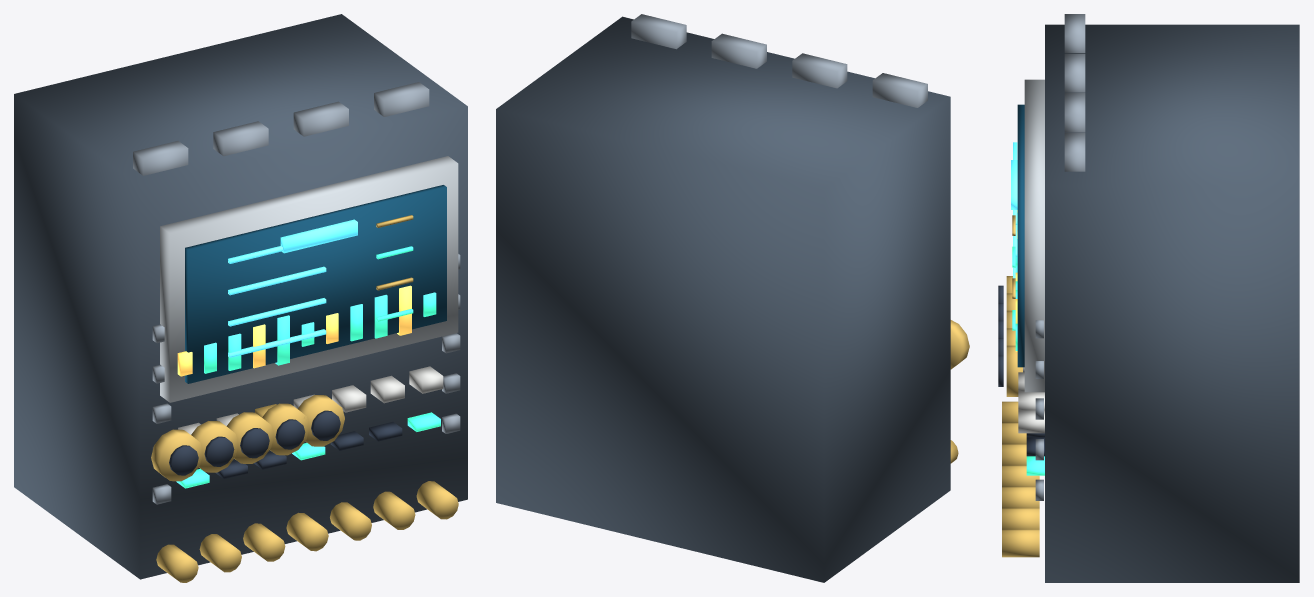
File: 65_L87_RotaryPowerTransferMonitor.glb
3 renders of one model, left to right at view 1: azimuth 30°, elevation 25°; view 2: azimuth 150°, elevation 25°; view 3: azimuth 270°, elevation 25°, orthographic.
Visible parts, largest first — view 1: L87_RotaryPowerTransferMonito_Part_0000, L87_RotaryPowerTransferMonito_Part_0002, L87_RotaryPowerTransferMonito_Part_0001, L87_RotaryPowerTransferMonito_Part_0004, L87_RotaryPowerTransferMonito_Part_0009, L87_RotaryPowerTransferMonito_Part_0012, L87_RotaryPowerTransferMonito_Part_0006, L87_RotaryPowerTransferMonito_Part_0008, L87_RotaryPowerTransferMonito_Part_0003, L87_RotaryPowerTransferMonito_Part_0011, L87_RotaryPowerTransferMonito_Part_0007, L87_RotaryPowerTransferMonito_Part_0005 (+11 smaller); view 2: L87_RotaryPowerTransferMonito_Part_0000, L87_RotaryPowerTransferMonito_Part_0009, L87_RotaryPowerTransferMonito_Part_0013; view 3: L87_RotaryPowerTransferMonito_Part_0000, L87_RotaryPowerTransferMonito_Part_0001, L87_RotaryPowerTransferMonito_Part_0004, L87_RotaryPowerTransferMonito_Part_0009, L87_RotaryPowerTransferMonito_Part_0002, L87_RotaryPowerTransferMonito_Part_0006, L87_RotaryPowerTransferMonito_Part_0008, L87_RotaryPowerTransferMonito_Part_0021, L87_RotaryPowerTransferMonito_Part_0005.
Boxes of the visible parts, left/top/right/bottom form: L87_RotaryPowerTransferMonito_Part_0000: left=14, top=14, right=467, bottom=579; L87_RotaryPowerTransferMonito_Part_0002: left=185, top=185, right=446, bottom=383; L87_RotaryPowerTransferMonito_Part_0001: left=160, top=156, right=458, bottom=402; L87_RotaryPowerTransferMonito_Part_0004: left=156, top=215, right=458, bottom=582; L87_RotaryPowerTransferMonito_Part_0009: left=133, top=82, right=429, bottom=175; L87_RotaryPowerTransferMonito_Part_0012: left=204, top=292, right=436, bottom=373; L87_RotaryPowerTransferMonito_Part_0006: left=178, top=366, right=443, bottom=434; L87_RotaryPowerTransferMonito_Part_0008: left=152, top=254, right=460, bottom=504; L87_RotaryPowerTransferMonito_Part_0003: left=228, top=246, right=326, bottom=357; L87_RotaryPowerTransferMonito_Part_0011: left=177, top=285, right=411, bottom=376; L87_RotaryPowerTransferMonito_Part_0007: left=215, top=422, right=402, bottom=478; L87_RotaryPowerTransferMonito_Part_0005: left=176, top=246, right=440, bottom=488; L87_RotaryPowerTransferMonito_Part_0000: left=496, top=16, right=950, bottom=582; L87_RotaryPowerTransferMonito_Part_0009: left=631, top=14, right=927, bottom=107; L87_RotaryPowerTransferMonito_Part_0013: left=950, top=320, right=969, bottom=369; L87_RotaryPowerTransferMonito_Part_0000: left=1045, top=24, right=1299, bottom=582; L87_RotaryPowerTransferMonito_Part_0001: left=1024, top=79, right=1044, bottom=392; L87_RotaryPowerTransferMonito_Part_0004: left=1002, top=215, right=1039, bottom=557; L87_RotaryPowerTransferMonito_Part_0009: left=1064, top=14, right=1085, bottom=171; L87_RotaryPowerTransferMonito_Part_0002: left=1017, top=104, right=1024, bottom=367; L87_RotaryPowerTransferMonito_Part_0006: left=1018, top=367, right=1044, bottom=433; L87_RotaryPowerTransferMonito_Part_0008: left=1035, top=320, right=1043, bottom=500; L87_RotaryPowerTransferMonito_Part_0021: left=1006, top=345, right=1022, bottom=396; L87_RotaryPowerTransferMonito_Part_0005: left=1012, top=246, right=1044, bottom=475.
Bounding box in the file's own units: 0.9695 × 1.16 × 0.765.
